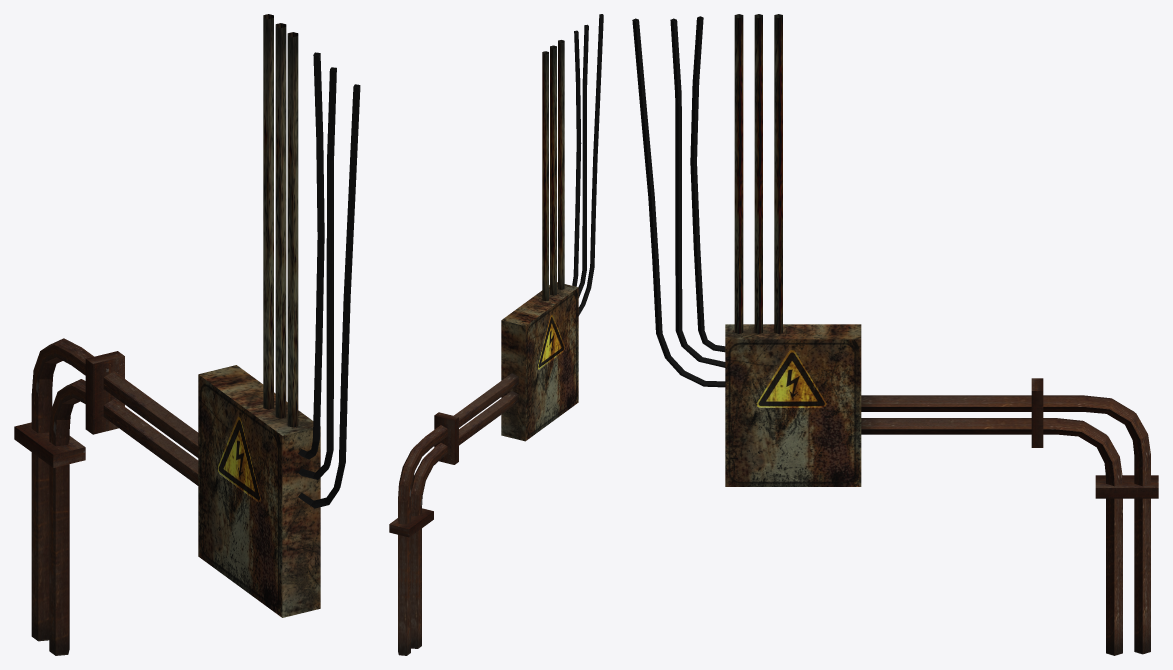
Rendered from powerBoxWall.fbx.
3 renders of one model, left to right at view 1: azimuth 30°, elevation 25°; view 2: azimuth 150°, elevation 25°; view 3: azimuth 270°, elevation 25°, orthographic. The views are drawn at different scales.
Visible parts, largest first — view 1: powerbox1; view 2: powerbox1; view 3: powerbox1.
Boxes of the visible parts, bbox=[...] form: powerbox1: bbox=[14, 14, 360, 655]; powerbox1: bbox=[389, 14, 603, 655]; powerbox1: bbox=[632, 14, 1158, 655].
Bounding box in the file's own units: 0.0354 × 0.693 × 0.5192.
Materials: 1 (1 with a texture image).
